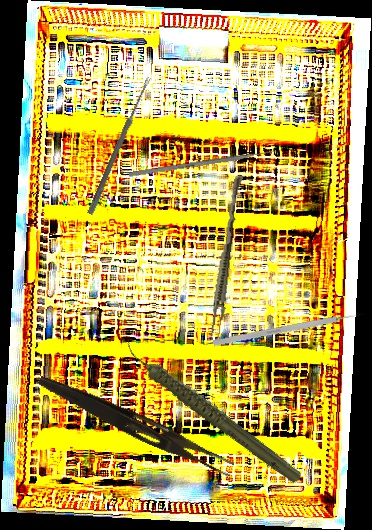Dressing Forceps: (33, 372, 238, 478)
Handpiece: (120, 306, 306, 515)
Hook Surgical: (212, 310, 367, 347)
Pusher: (128, 147, 283, 178)
Surgical Spoon: (87, 75, 152, 216)
Tissue Forceps: (209, 174, 243, 338)
